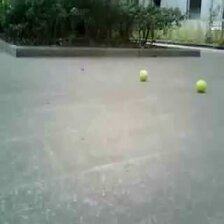tennis: (196, 79, 207, 93), (139, 69, 148, 81)
